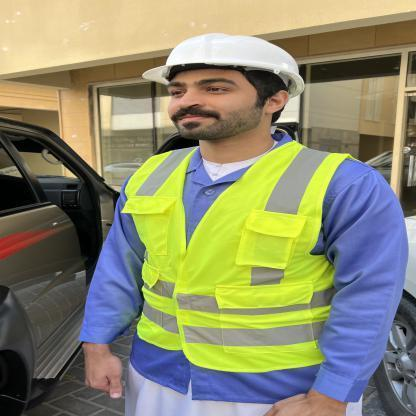helmet: (143, 32, 304, 141)
vest: (131, 148, 348, 376)
